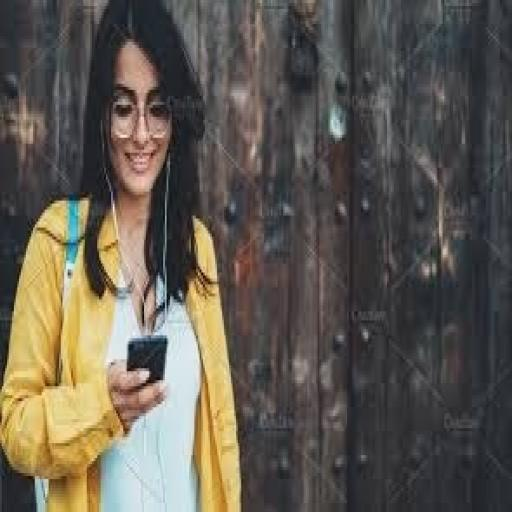texting: (0, 0, 245, 509)
